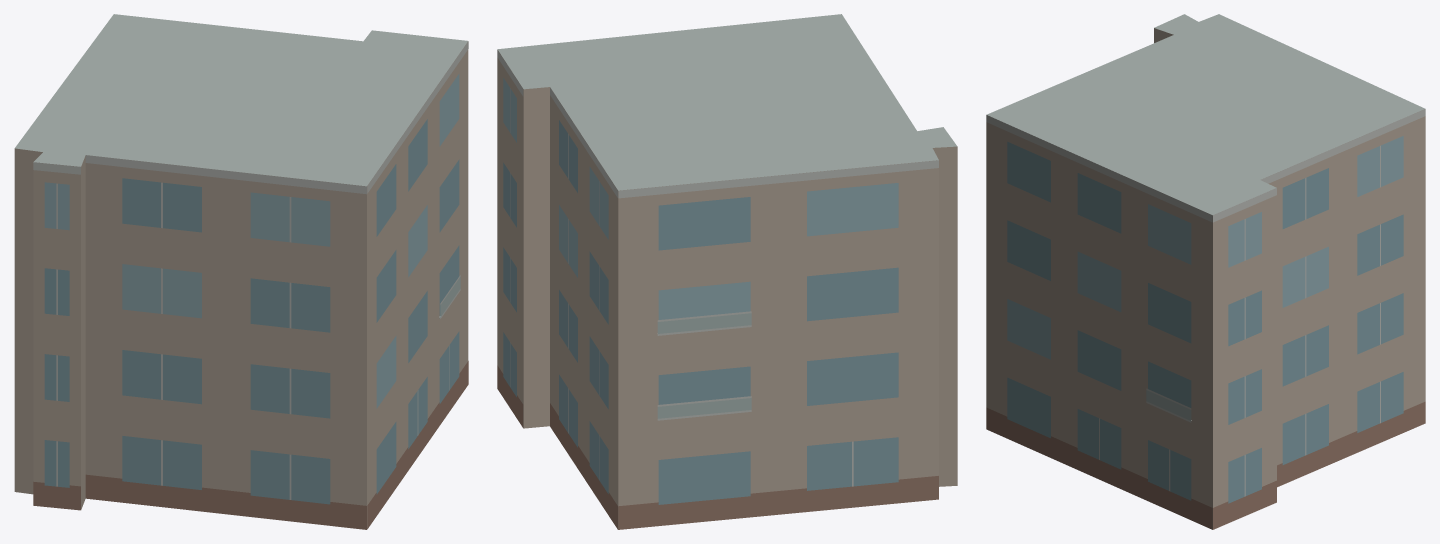
The model's file is survey-upis-32811565.glb.
The picture shows the model from 3 angles, left to right: view 1: azimuth 30°, elevation 25°; view 2: azimuth 150°, elevation 25°; view 3: azimuth 270°, elevation 25°; orthographic projection. The views are drawn at different scales.
Visible parts, largest first — view 1: survey-upis-32811565.tmp; view 2: survey-upis-32811565.tmp; view 3: survey-upis-32811565.tmp.
Boxes of the visible parts, x1,y1,x2,y2 form: survey-upis-32811565.tmp: (14, 14, 468, 529); survey-upis-32811565.tmp: (497, 14, 957, 529); survey-upis-32811565.tmp: (986, 14, 1425, 529).
Bounding box in the file's own units: 14.49 × 10.55 × 13.36.
